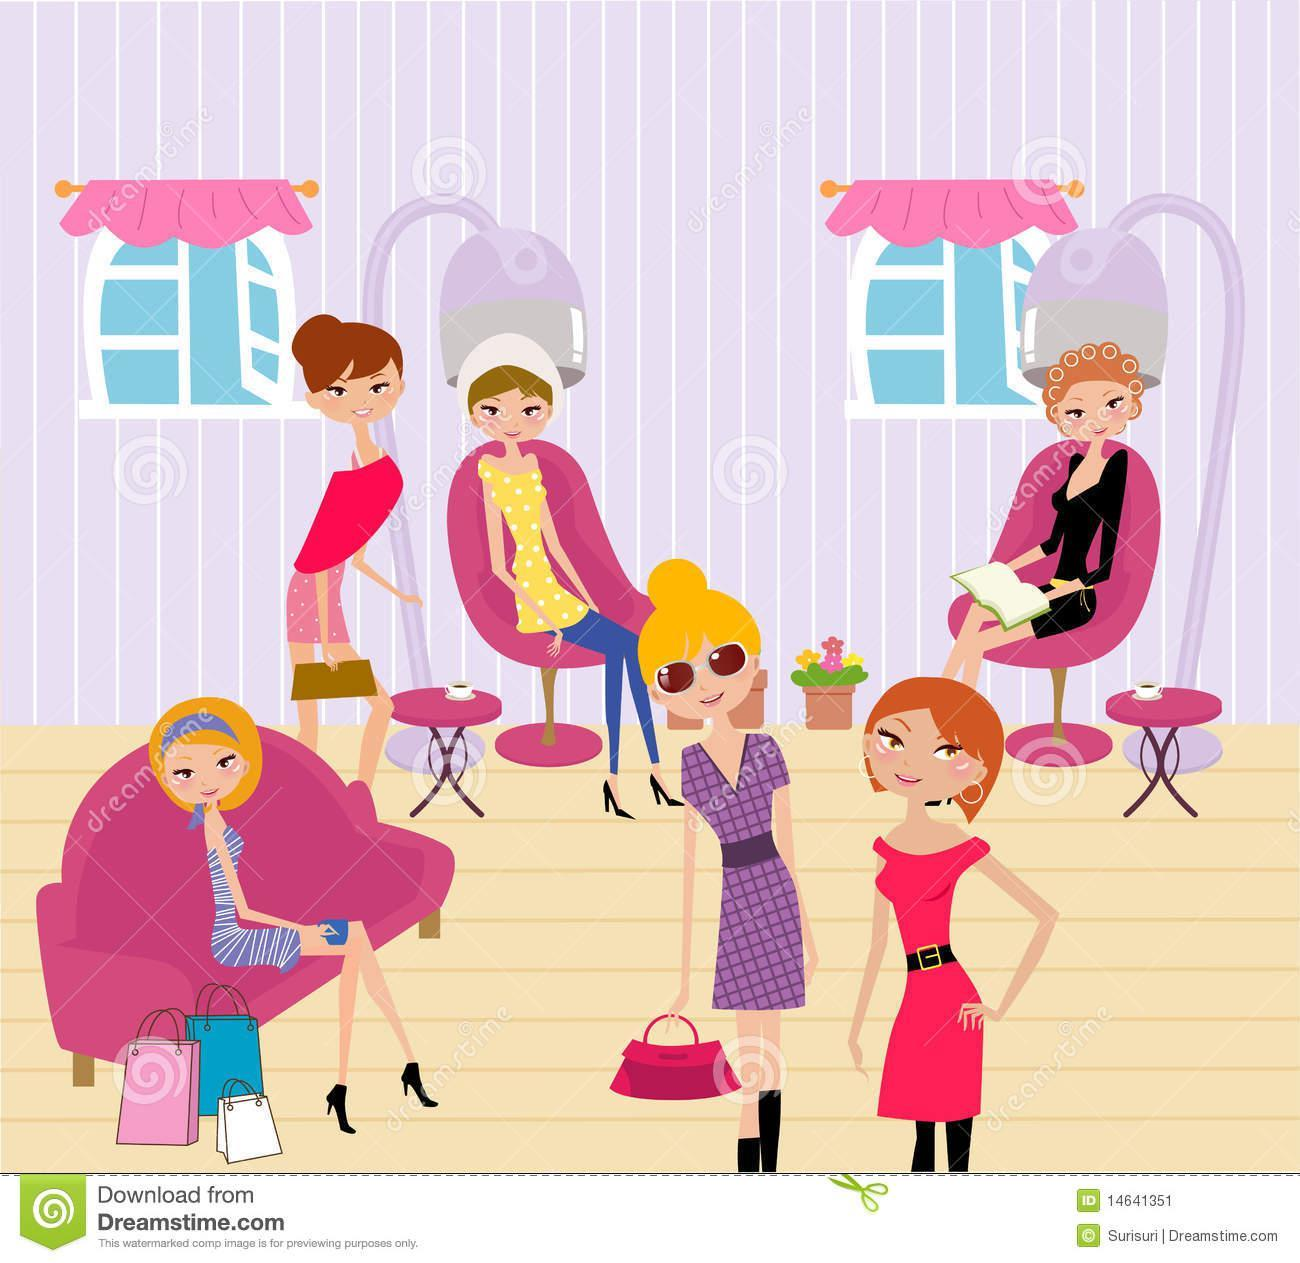chair: (930, 435, 1172, 784), (436, 444, 658, 764)
person: (140, 691, 447, 1124), (618, 558, 821, 1175), (441, 329, 678, 816), (840, 667, 1067, 1169), (918, 349, 1150, 738), (240, 309, 416, 780)
sofa: (29, 720, 489, 1138)
